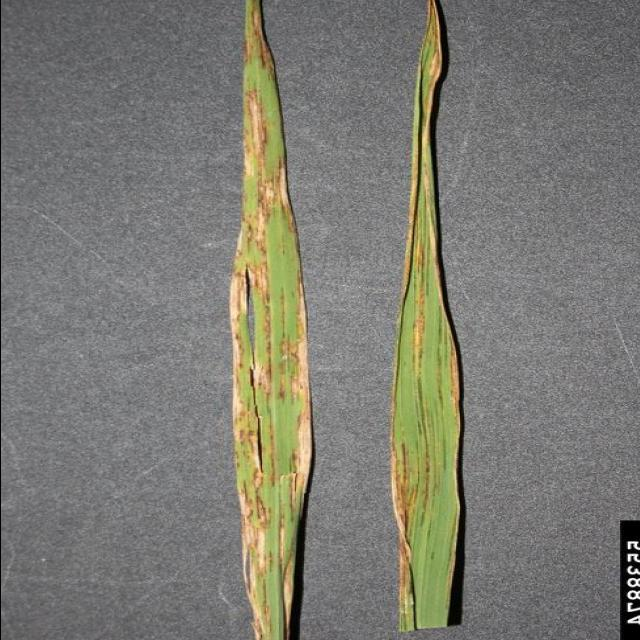Bacterial leaf blight: (385, 443, 427, 618), (404, 208, 434, 424), (285, 281, 314, 486), (241, 495, 272, 640), (237, 91, 271, 178), (242, 433, 284, 495), (231, 253, 264, 329), (240, 0, 273, 75), (248, 183, 284, 239), (444, 333, 462, 438), (249, 356, 277, 406)
